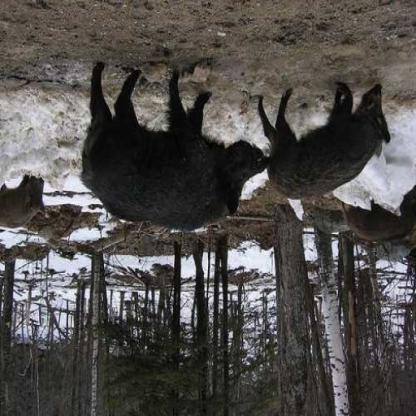boar: (76, 36, 261, 245), (282, 63, 399, 213), (331, 183, 415, 266), (0, 171, 61, 249)
